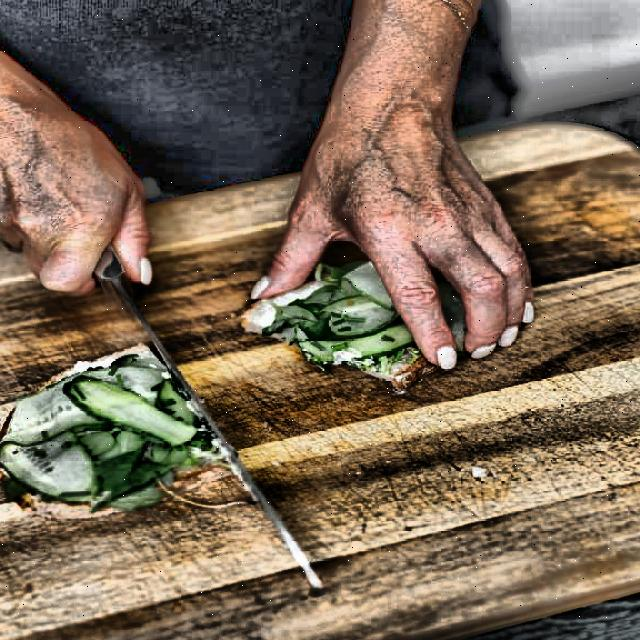knife: (86, 241, 346, 607)
